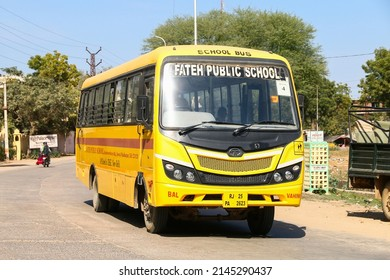bus: (75, 45, 304, 234)
